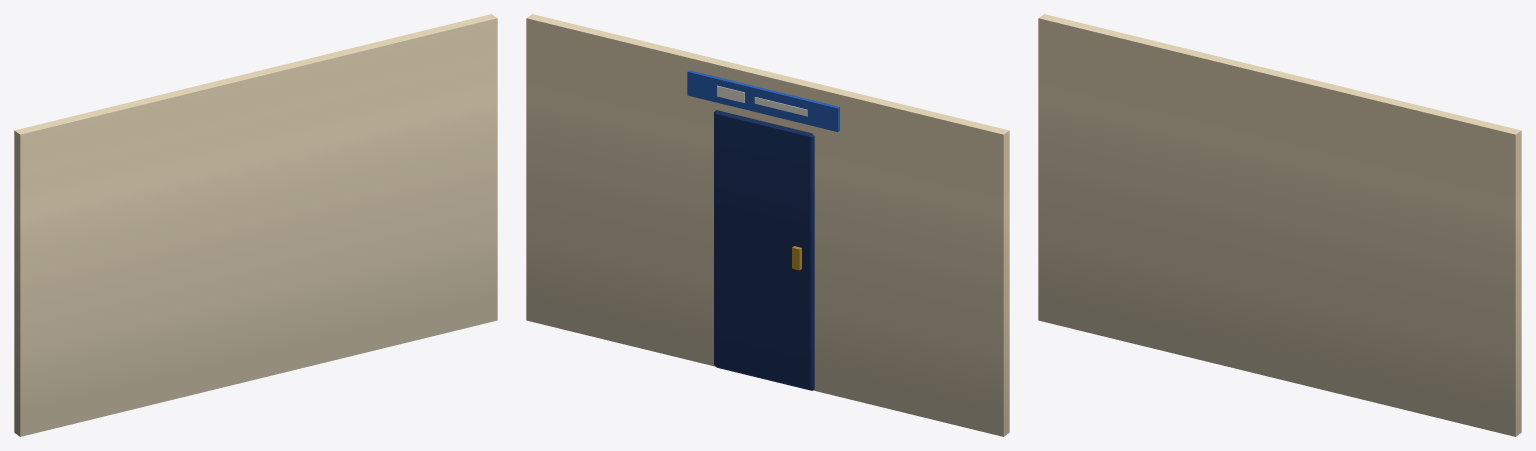
File: Parede_Frente.glb
The picture shows the model from 3 angles, left to right: view 1: azimuth 30°, elevation 25°; view 2: azimuth 150°, elevation 25°; view 3: azimuth 330°, elevation 25°; orthographic projection.
Visible parts, largest first — view 1: Parede_Frente_Malha; view 2: Parede_Frente_Malha; view 3: Parede_Frente_Malha.
Boxes of the visible parts, x1,y1,x2,y2 form: Parede_Frente_Malha: (14,14,497,436); Parede_Frente_Malha: (526,14,1009,436); Parede_Frente_Malha: (1038,14,1521,436).
Bounding box in the file's own units: 3.8 × 2.3 × 0.14.
1 material, 1 textured.
